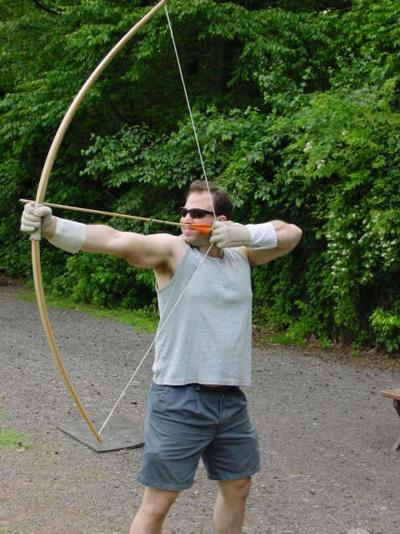person: (23, 174, 307, 530)
